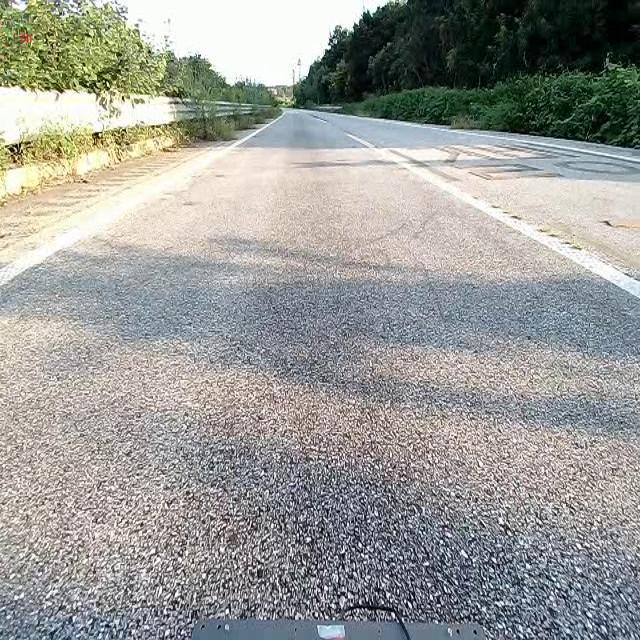Lane: (342, 127, 640, 301), (342, 129, 639, 298), (0, 124, 268, 286), (1, 125, 265, 286)
